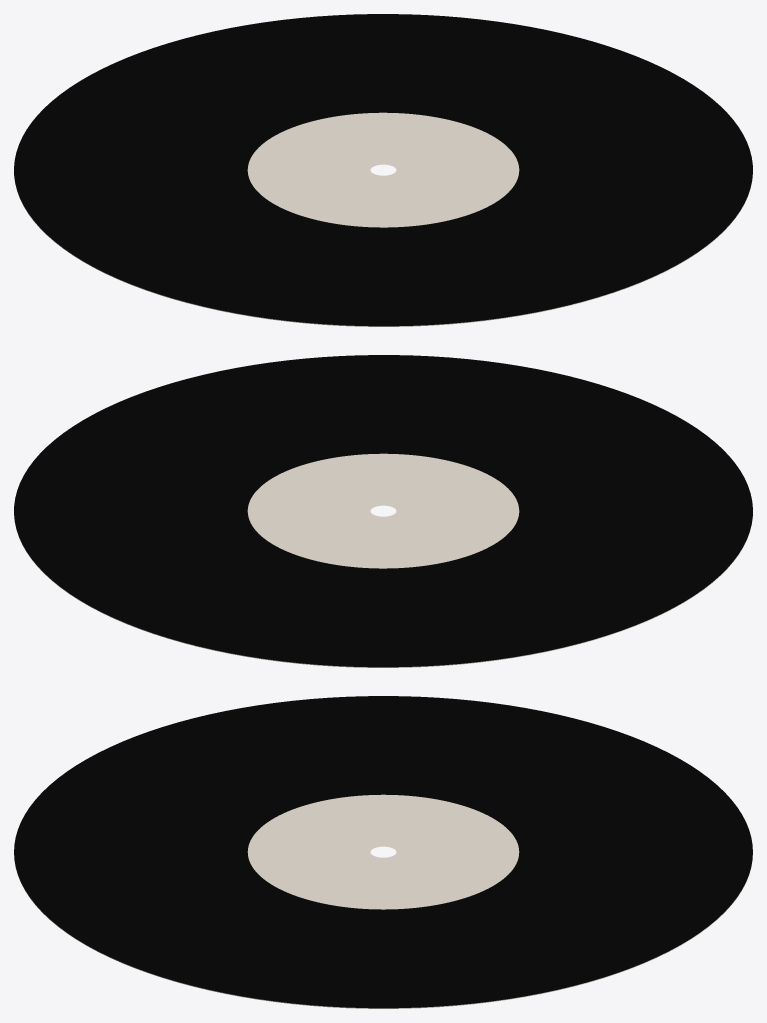
File: vinly.glb
3 views of the same model, one above another, from view 1: azimuth 30°, elevation 25°; view 2: azimuth 150°, elevation 25°; view 3: azimuth 270°, elevation 25° (orthographic).
Parts seen in each view (by area): view 1: Cylinder; view 2: Cylinder; view 3: Cylinder.
Part boxes in pixels (x1=…): Cylinder: x1=14, y1=14, x2=752, y2=326; Cylinder: x1=14, y1=355, x2=752, y2=667; Cylinder: x1=14, y1=696, x2=752, y2=1008.
Bounding box in the file's own units: 2 × 0.002 × 2.
